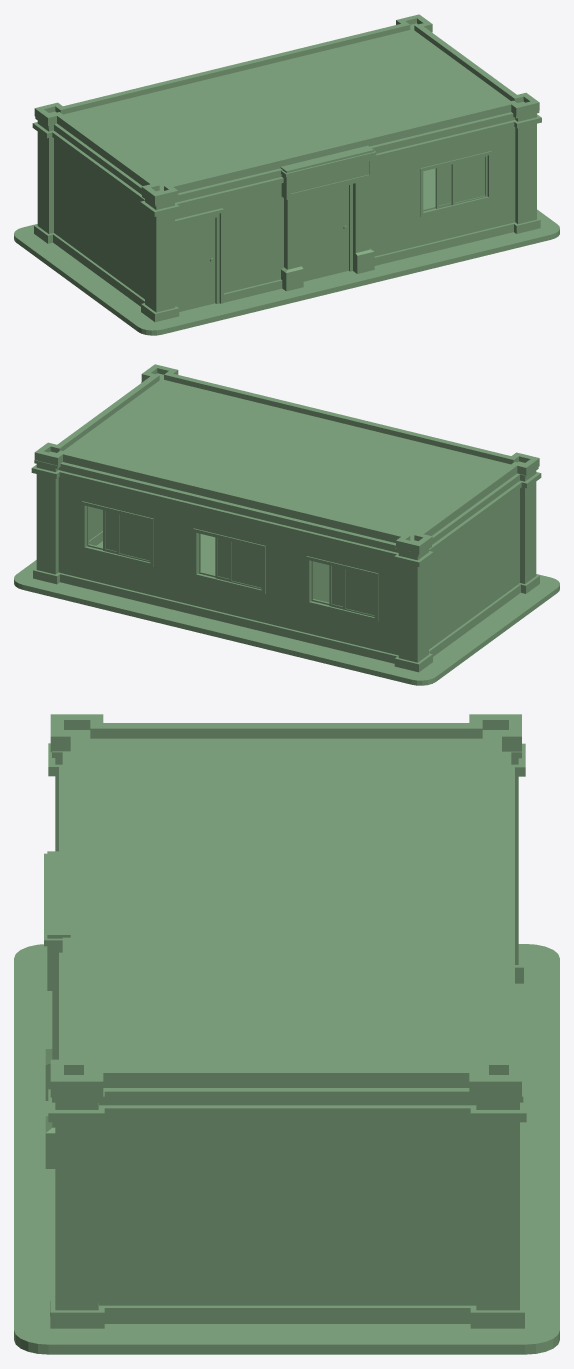
The model's file is Office_Building_V2.fbx.
3 views of the same model, one above another, from view 1: azimuth 30°, elevation 25°; view 2: azimuth 150°, elevation 25°; view 3: azimuth 270°, elevation 25° (orthographic). The views are drawn at different scales.
Parts seen in each view (by area): view 1: Office_Base, Office_Roof, Side_Wall, Door5, Door2, Glass2, Glass1; view 2: Office_Roof, Wall, Office_Base, Side_Wall, Glass2, Glass3, Glass5, Wall_Interior, Glass4, Glass1, Glass6; view 3: Office_Base, Office_Roof, Wall, Side_Wall.
Boxes of the visible parts, box(x1,y1,x2,y2) form: Office_Base: box(14, 111, 559, 335); Office_Roof: box(34, 14, 539, 204); Side_Wall: box(32, 117, 144, 306); Door5: box(301, 184, 352, 281); Door2: box(177, 213, 219, 311); Glass2: box(451, 155, 487, 205); Glass1: box(435, 164, 451, 208); Office_Roof: box(34, 364, 539, 554); Wall: box(58, 462, 398, 663); Office_Base: box(14, 381, 559, 685); Side_Wall: box(394, 473, 521, 672); Glass2: box(116, 513, 150, 562); Glass3: box(229, 541, 261, 589); Glass5: box(343, 568, 374, 616); Wall_Interior: box(313, 561, 329, 602); Glass4: box(215, 537, 229, 581); Glass1: box(103, 510, 116, 553); Glass6: box(329, 565, 342, 609); Office_Base: box(14, 743, 559, 1354); Office_Roof: box(50, 714, 521, 1097); Wall: box(502, 752, 514, 1059); Side_Wall: box(502, 743, 525, 983).
Bounding box in the file's own units: 988 × 295 × 569.
